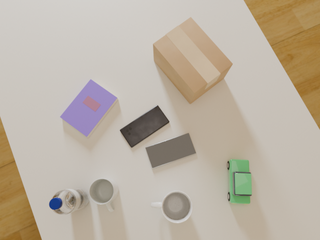book: (60, 79, 118, 138)
bottle: (49, 188, 89, 215)
box: (153, 17, 233, 104)
cup: (151, 190, 193, 223), (89, 178, 118, 212)
phone: (120, 105, 169, 147), (145, 133, 196, 168)
toy_car: (227, 159, 252, 204)
